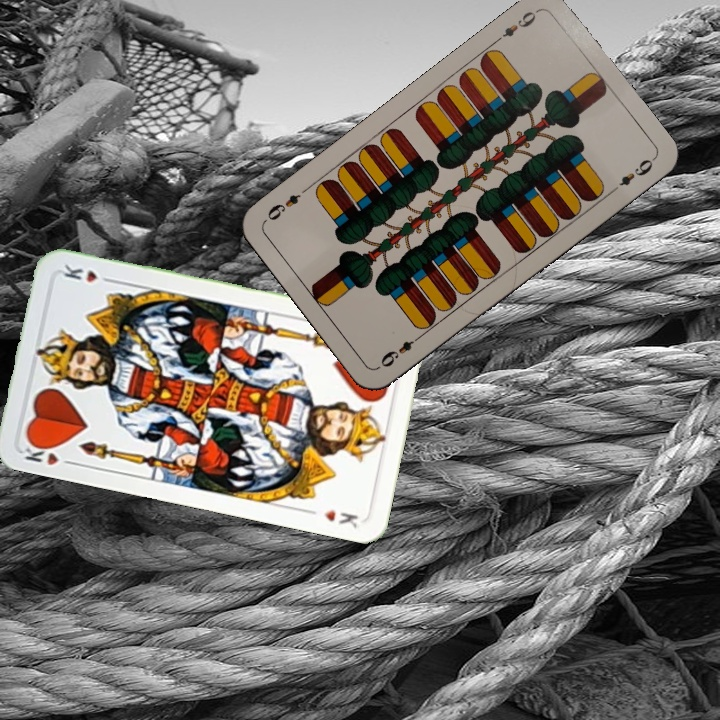E9: (491, 5, 542, 46), (376, 330, 425, 370)
HK: (19, 436, 78, 468)
